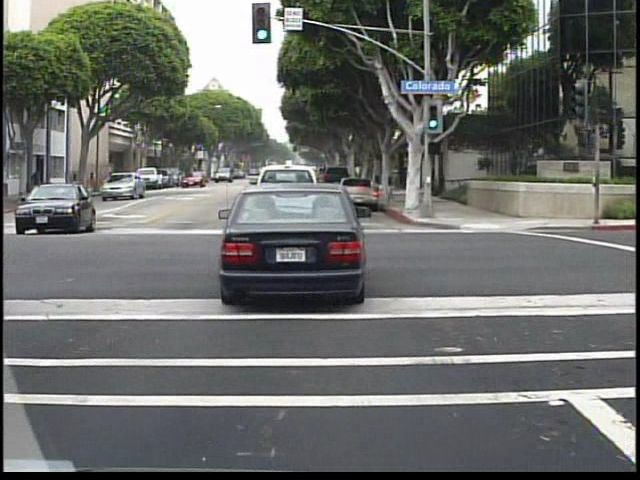person: (26, 168, 45, 207)
